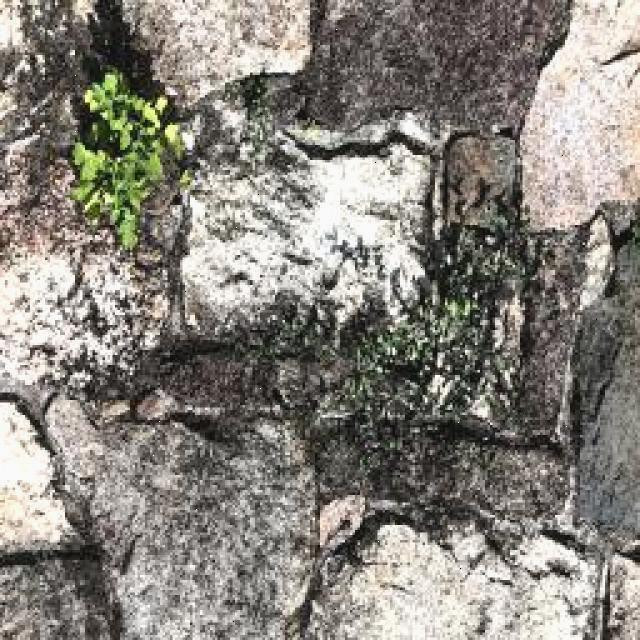crack: (1, 1, 637, 637), (281, 127, 417, 163), (0, 390, 61, 459), (600, 44, 640, 69)
dampens: (1, 89, 204, 568), (1, 387, 345, 637), (93, 3, 329, 356), (490, 17, 577, 126)
dampness: (393, 0, 640, 256)
vegetation: (0, 139, 123, 357), (65, 66, 189, 251), (118, 0, 316, 96), (1, 376, 93, 562), (430, 195, 523, 303), (224, 71, 288, 160), (83, 73, 137, 134), (70, 141, 114, 195)
